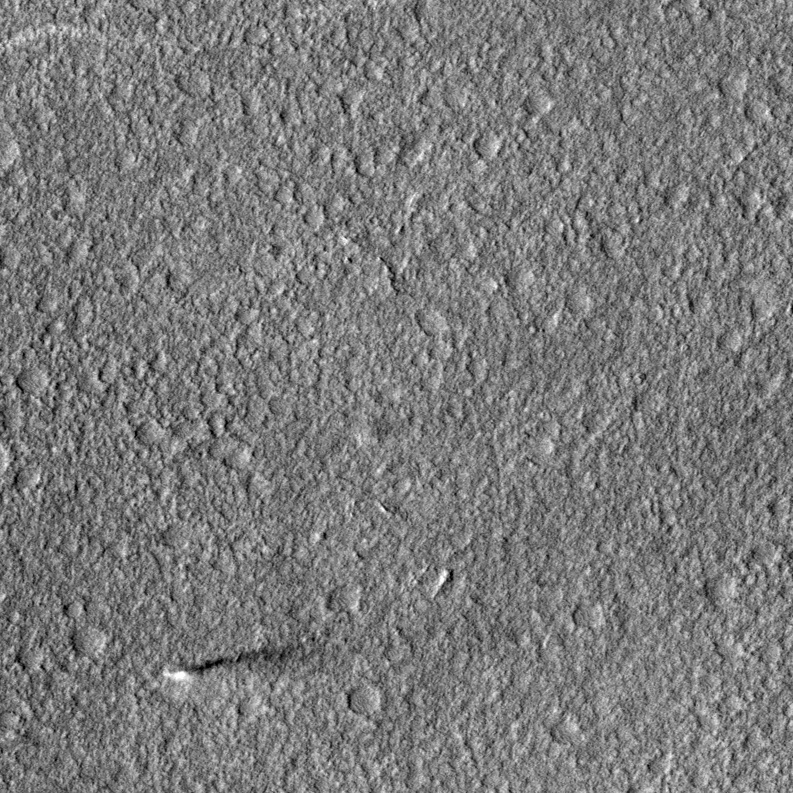dust_devil: (163, 642, 299, 687)
